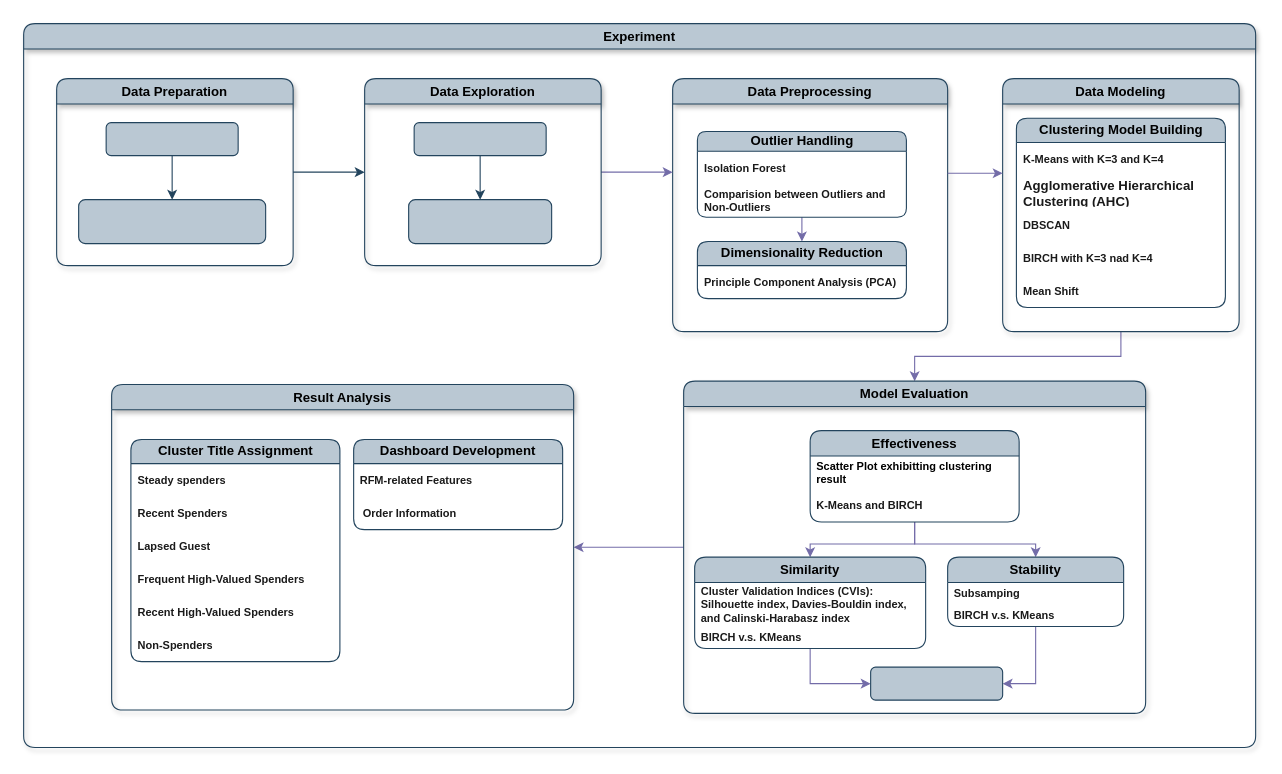
Some shapes in this 1282 by 774 pixel diagram are drawn without their labels. The centre of each missing label's shape, as x and y in pixels:
"Data Cleaning" belongs at [171,139].
"General Exploration" belongs at [479,139].
"K-Means with K=4" belongs at [936,683].
"RFM based Featrue Engineering" belongs at [172,221].
"Segment-Specific Exploration" belongs at [480,221].
